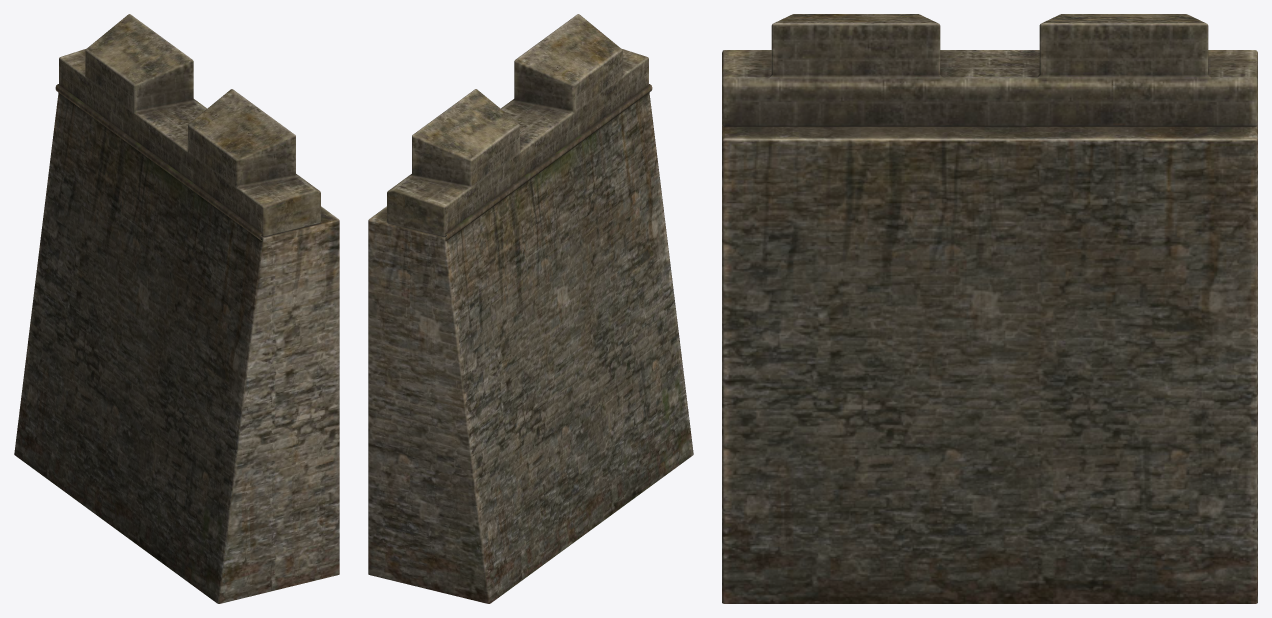
Rendered from wall_short.glb.
3 views of the same model, side by side, from view 1: azimuth 30°, elevation 25°; view 2: azimuth 150°, elevation 25°; view 3: azimuth 270°, elevation 25° (orthographic). The views are drawn at different scales.
Parts seen in each view (by area): view 1: wall_short; view 2: wall_short; view 3: wall_short.
Part boxes in pixels (x1,y1,x2,y2): wall_short: [14, 14, 339, 603]; wall_short: [368, 14, 693, 603]; wall_short: [722, 14, 1257, 603].
Bounding box in the file's own units: 1.52 × 5.12 × 4.41.
1 material, 1 textured.
